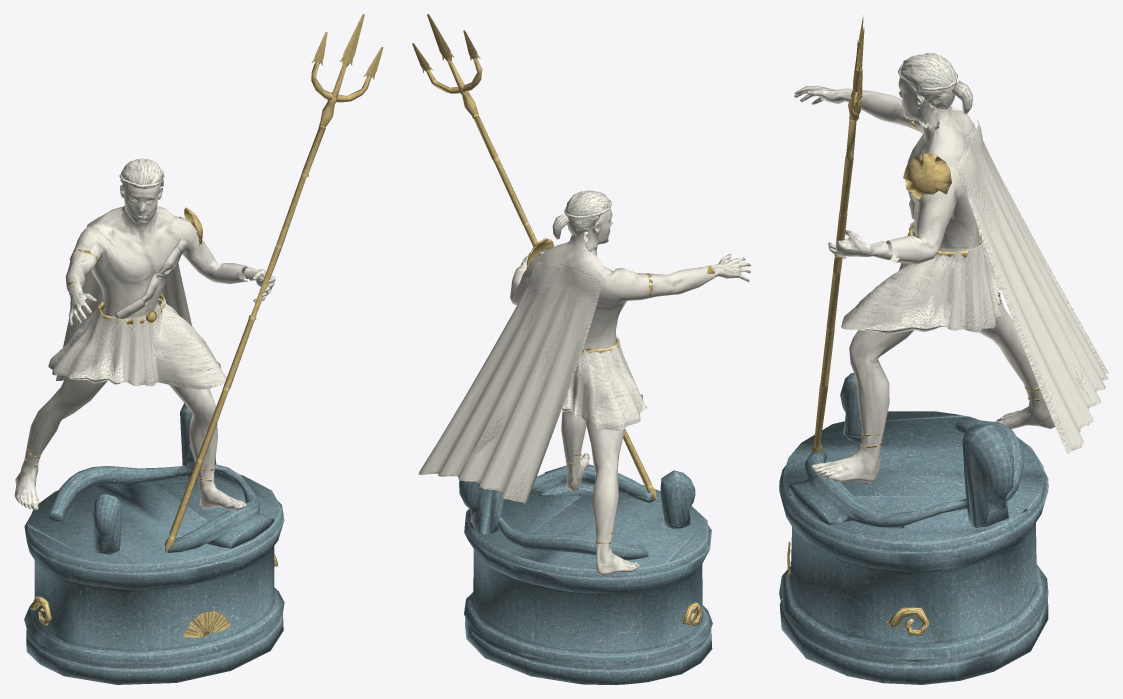
Rendered from guardian-depths-lod1.glb.
The picture shows the model from 3 angles, left to right: view 1: azimuth 30°, elevation 25°; view 2: azimuth 150°, elevation 25°; view 3: azimuth 270°, elevation 25°; orthographic projection. The views are drawn at different scales.
Parts seen in each view (by area): view 1: DEPTHS__PEDESTAL, DEPTHS__BODY, DEPTHS__CLOTH, DEPTHS__WAVES, DEPTHS__TRIDENT, DEPTHS__DETAILS, DEPTHS__FACE, DEPTHS__HAIR; view 2: DEPTHS__PEDESTAL, DEPTHS__CLOTH, DEPTHS__BODY, DEPTHS__WAVES, DEPTHS__TRIDENT, DEPTHS__HAIR, DEPTHS__DETAILS, DEPTHS__FACE; view 3: DEPTHS__PEDESTAL, DEPTHS__CLOTH, DEPTHS__BODY, DEPTHS__WAVES, DEPTHS__TRIDENT, DEPTHS__DETAILS, DEPTHS__HAIR, DEPTHS__HAND_GRIP, DEPTHS__FACE.
Boxes of the visible parts, x1=… form: DEPTHS__PEDESTAL: x1=24, y1=472, x2=284, y2=684; DEPTHS__BODY: x1=14, y1=206, x2=248, y2=510; DEPTHS__CLOTH: x1=48, y1=215, x2=226, y2=389; DEPTHS__WAVES: x1=49, y1=403, x2=274, y2=554; DEPTHS__TRIDENT: x1=165, y1=14, x2=383, y2=552; DEPTHS__DETAILS: x1=24, y1=207, x2=277, y2=637; DEPTHS__FACE: x1=120, y1=182, x2=162, y2=224; DEPTHS__HAIR: x1=119, y1=158, x2=164, y2=188; DEPTHS__PEDESTAL: x1=464, y1=485, x2=712, y2=684; DEPTHS__CLOTH: x1=418, y1=251, x2=646, y2=506; DEPTHS__BODY: x1=510, y1=231, x2=750, y2=575; DEPTHS__WAVES: x1=459, y1=464, x2=695, y2=559; DEPTHS__TRIDENT: x1=412, y1=14, x2=656, y2=501; DEPTHS__HAIR: x1=552, y1=190, x2=611, y2=239; DEPTHS__DETAILS: x1=526, y1=238, x2=714, y2=626; DEPTHS__FACE: x1=584, y1=208, x2=612, y2=249; DEPTHS__PEDESTAL: x1=779, y1=411, x2=1048, y2=684; DEPTHS__CLOTH: x1=841, y1=120, x2=1108, y2=454; DEPTHS__BODY: x1=794, y1=85, x2=1055, y2=482; DEPTHS__WAVES: x1=788, y1=372, x2=1027, y2=527; DEPTHS__TRIDENT: x1=812, y1=15, x2=864, y2=452; DEPTHS__DETAILS: x1=787, y1=119, x2=1040, y2=635; DEPTHS__HAIR: x1=898, y1=53, x2=973, y2=114; DEPTHS__HAND_GRIP: x1=828, y1=230, x2=892, y2=260; DEPTHS__FACE: x1=898, y1=77, x2=936, y2=126.
Size of the model in its own units: 5.29 by 8.97 by 3.83.
Materials: 3 (3 with a texture image).
